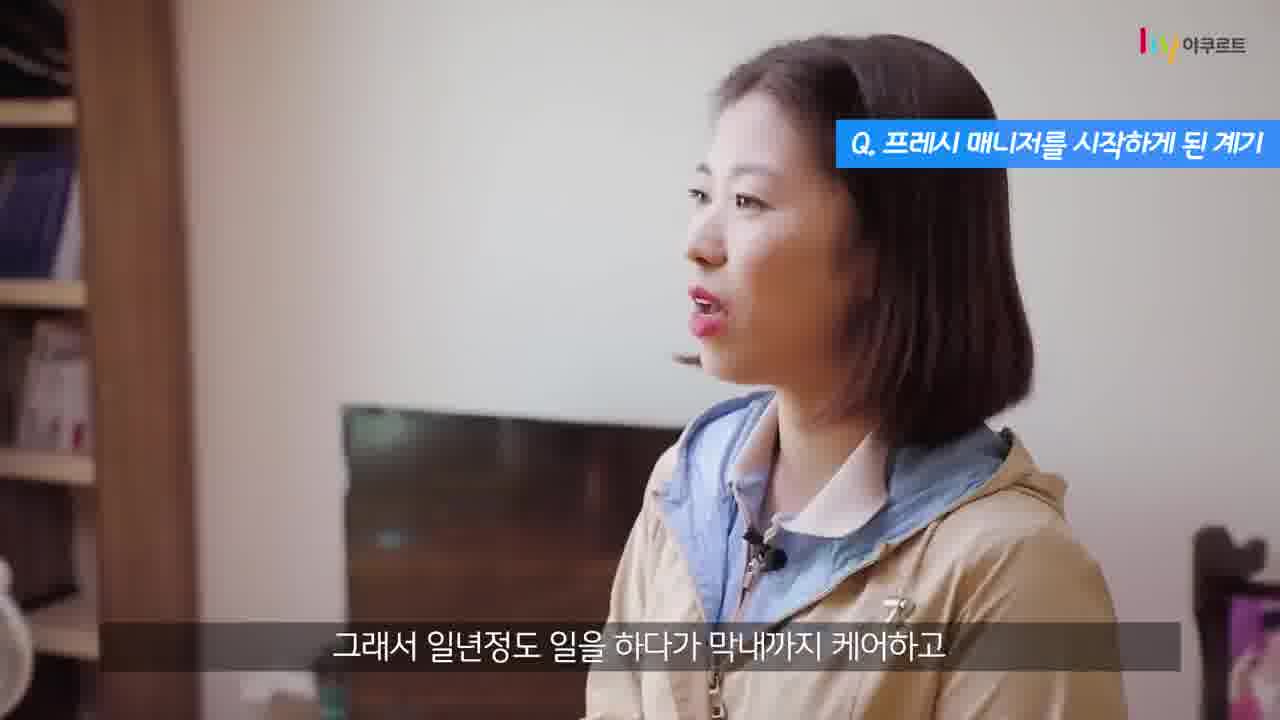Yakurut: (566, 25, 1146, 720)
